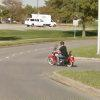Motorcycle: (41, 42, 84, 68)
